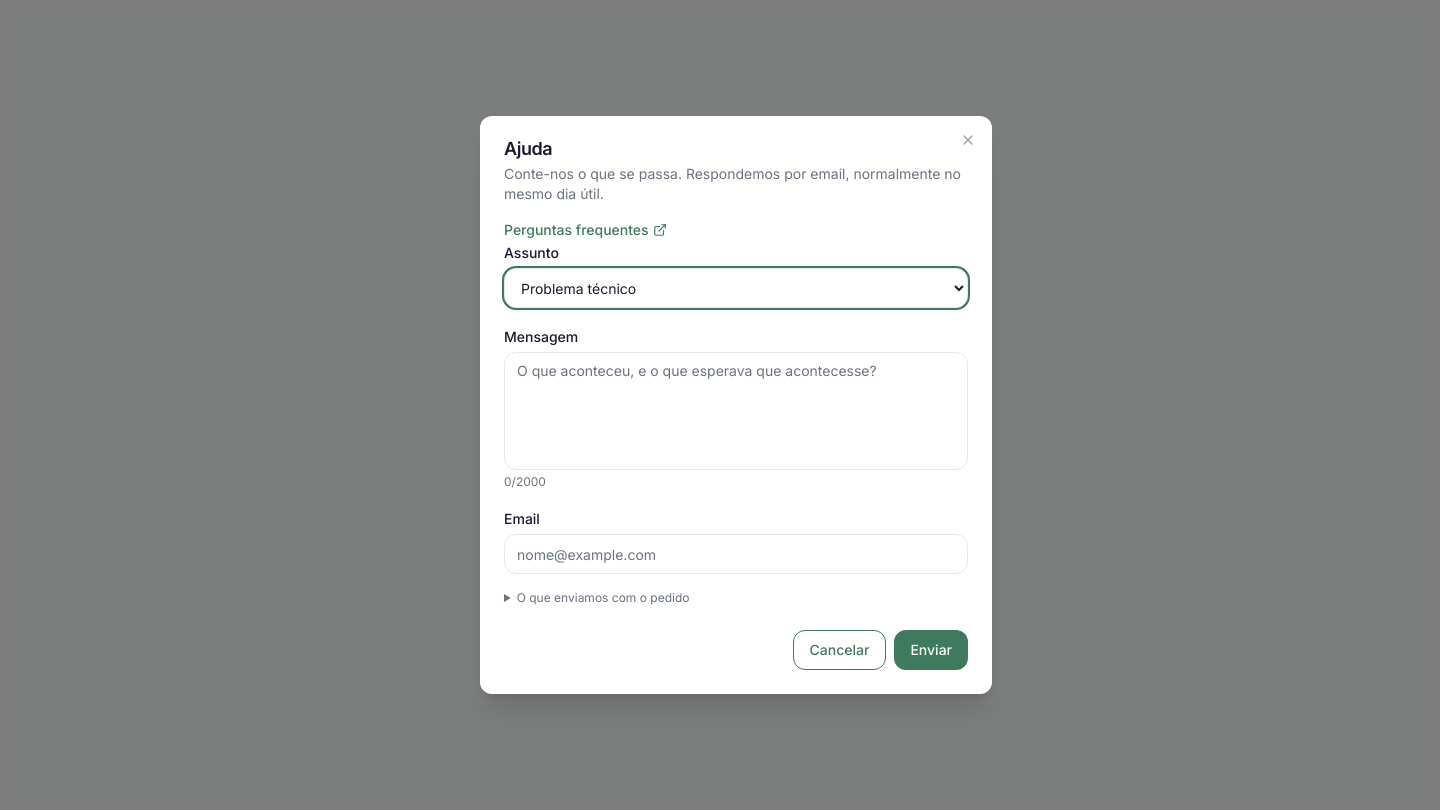
Test: HelpDialog — signed out › asks for an email, validates the message length, and never sends a bad form
Expected: the field labelled "Email" is enabled, [504,534,968,574]
Step 1. Type "curto" into the text box labelled "Mensagem" → point(736, 411), box [504,352,968,470]
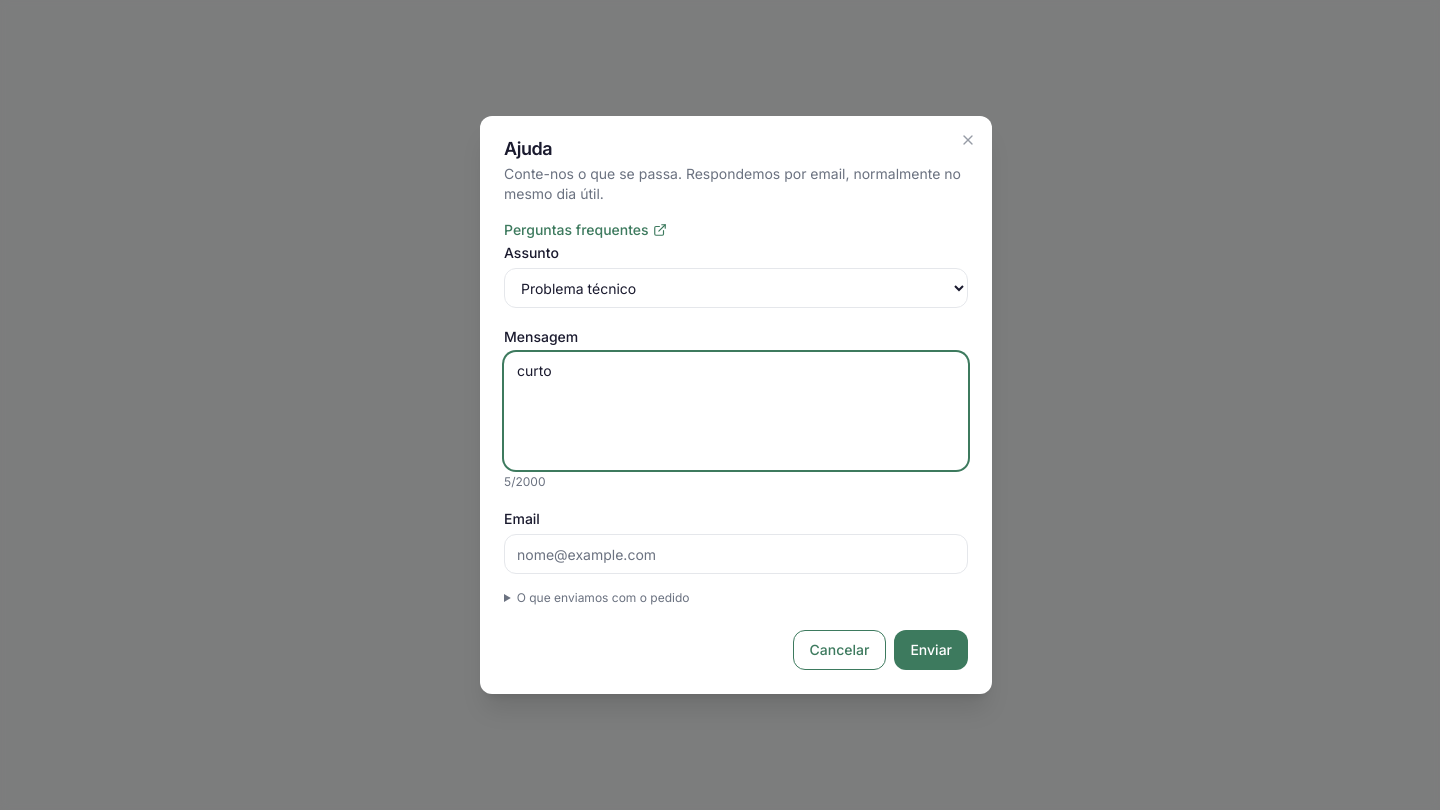
Step 2. Click the button "Enviar" → point(931, 650), box [894,630,968,670]
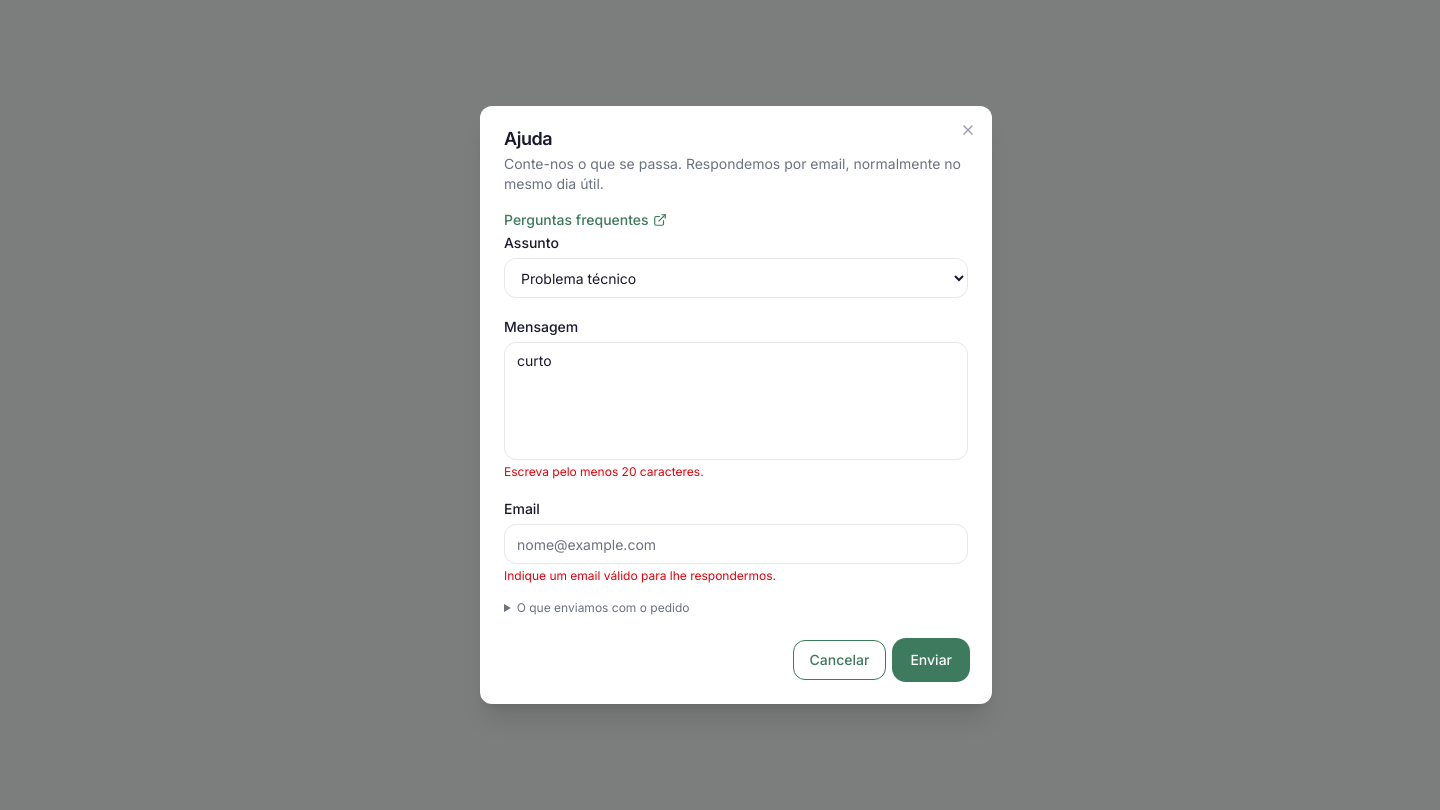
Now the text "Escreva pelo menos 20 caracteres." is shown, box [504,464,704,479]
Now the text "Indique um email válido para lhe respondermos." is shown, box [504,568,776,583]
